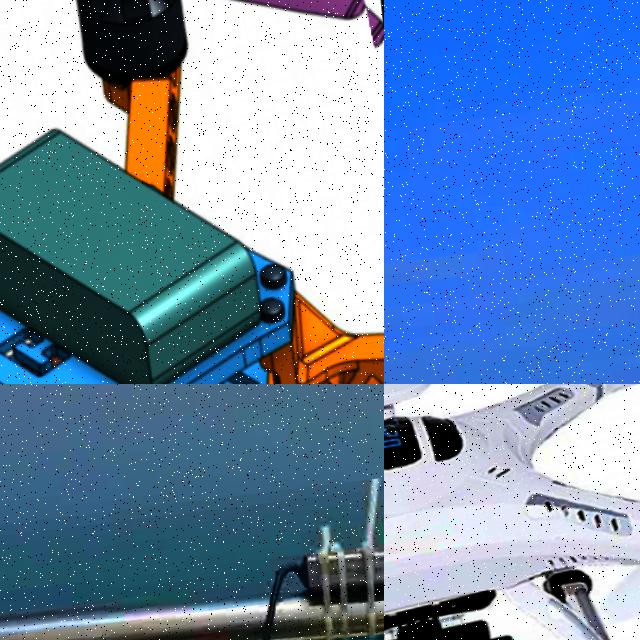drone: (0, 0, 384, 384), (384, 384, 640, 640)
